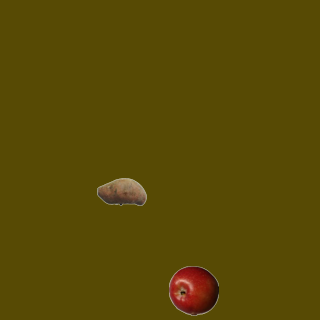Apple Braeburn: (168, 265, 218, 315)
Potato Sweet: (96, 166, 146, 216)
